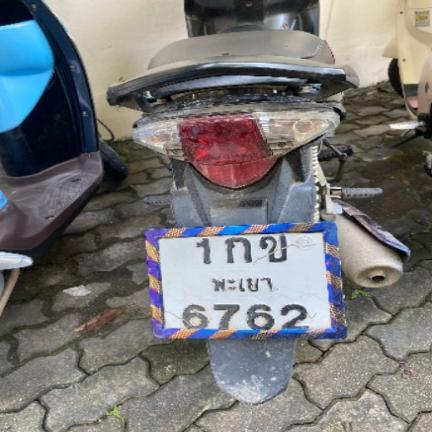1: (191, 239, 218, 265)
2: (280, 302, 313, 328)
6: (176, 302, 211, 330), (244, 303, 277, 329)
7: (212, 302, 243, 331)
A01: (224, 235, 256, 266)
A02: (257, 234, 292, 264)
PYO: (205, 270, 278, 294)
